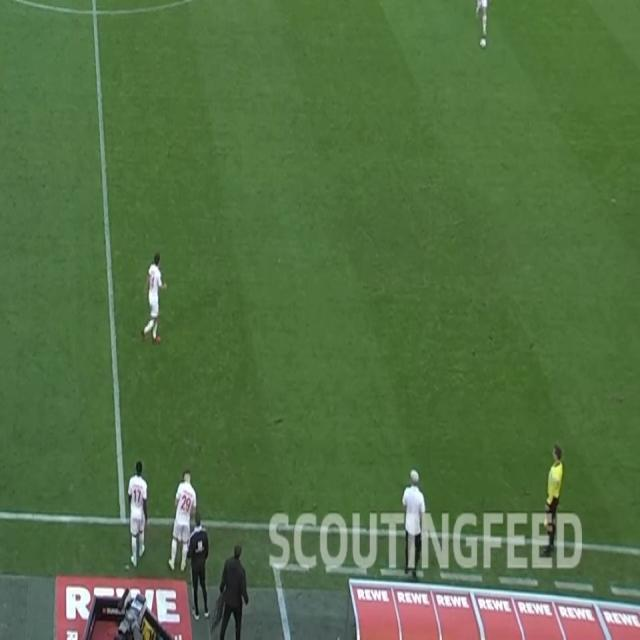ball: (480, 36, 487, 49)
